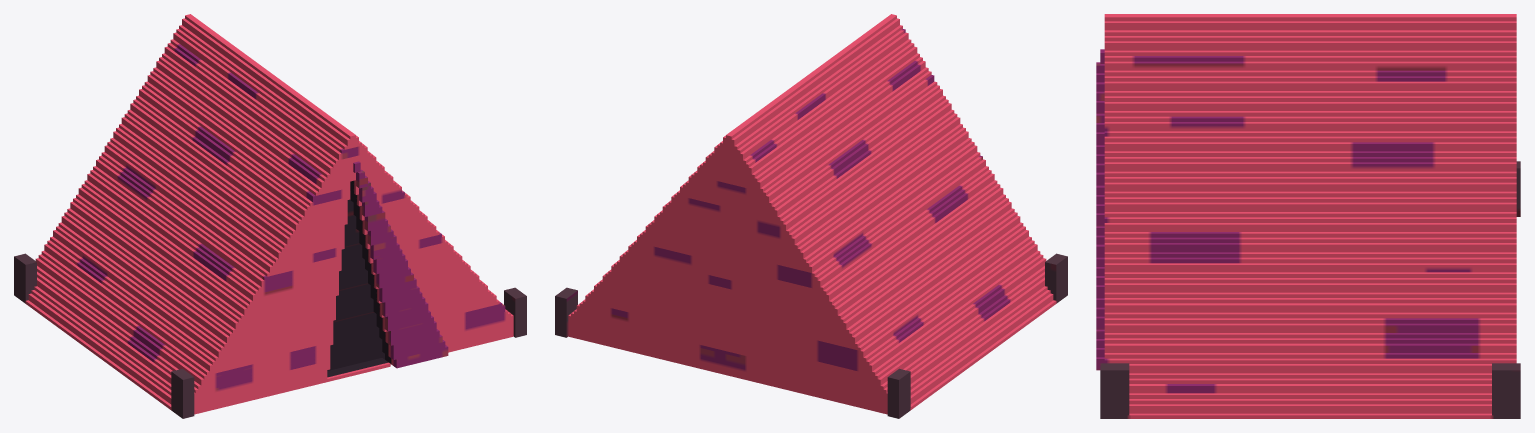
The model's file is Tents.fbx.
3 renders of one model, left to right at view 1: azimuth 30°, elevation 25°; view 2: azimuth 150°, elevation 25°; view 3: azimuth 270°, elevation 25°, orthographic. The views are drawn at different scales.
Visible parts, largest first — view 1: Object; view 2: Object; view 3: Object.
Part boxes in pixels (x1,y1,x2,y2): Object: [14, 14, 526, 418]; Object: [555, 14, 1067, 418]; Object: [1096, 14, 1520, 418].
Bounding box in the file's own units: 120 × 80 × 103.
